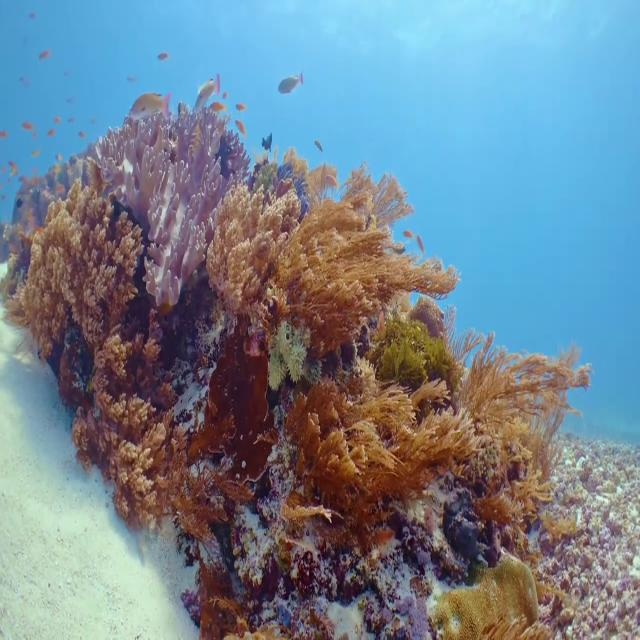fish: (188, 64, 230, 112), (273, 61, 311, 101)
